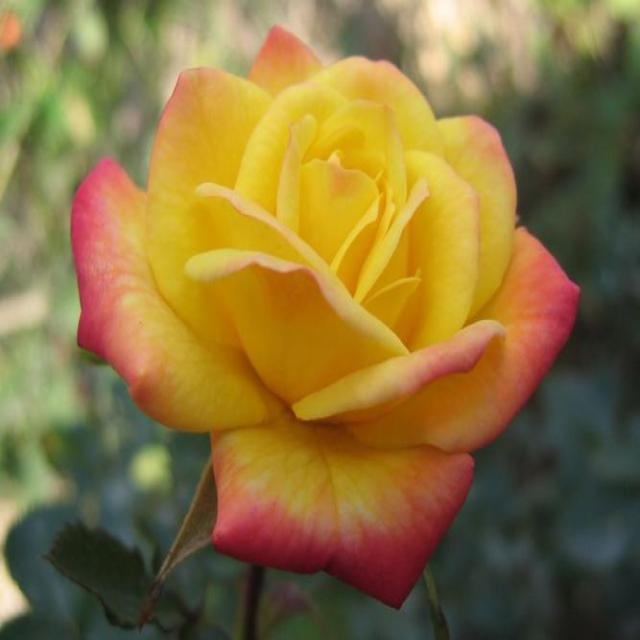rose: (55, 16, 584, 603)
